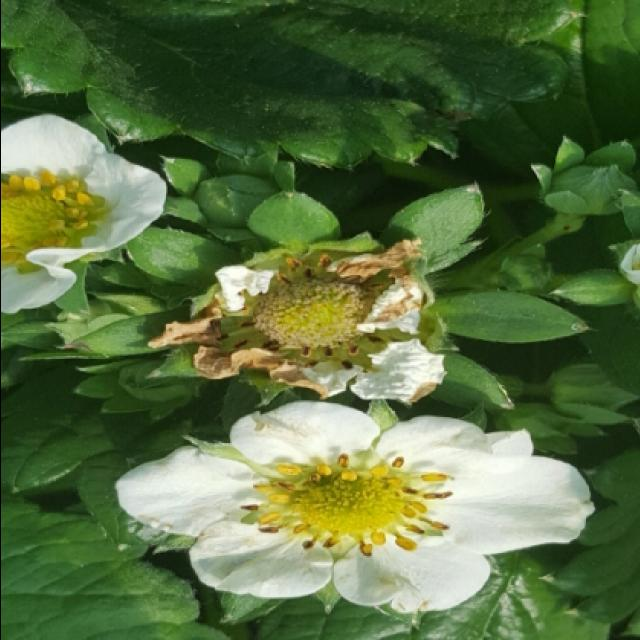Blossom Blight: (235, 447, 457, 562), (207, 250, 402, 374)
